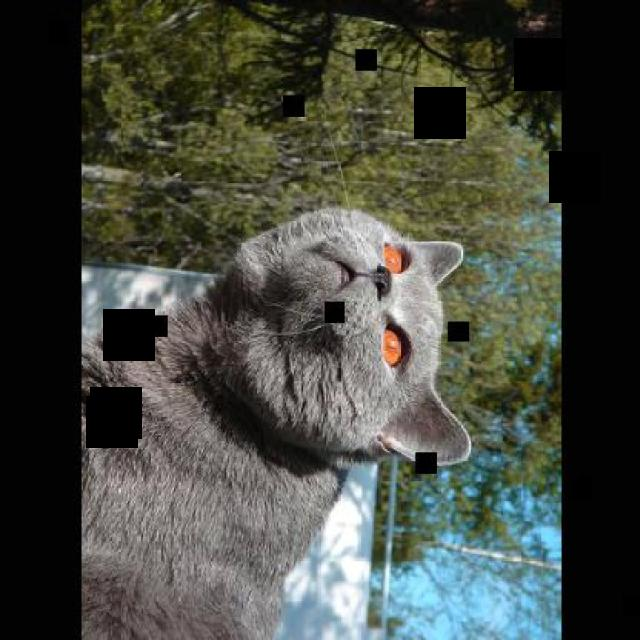unauthorized: (80, 204, 471, 638)
